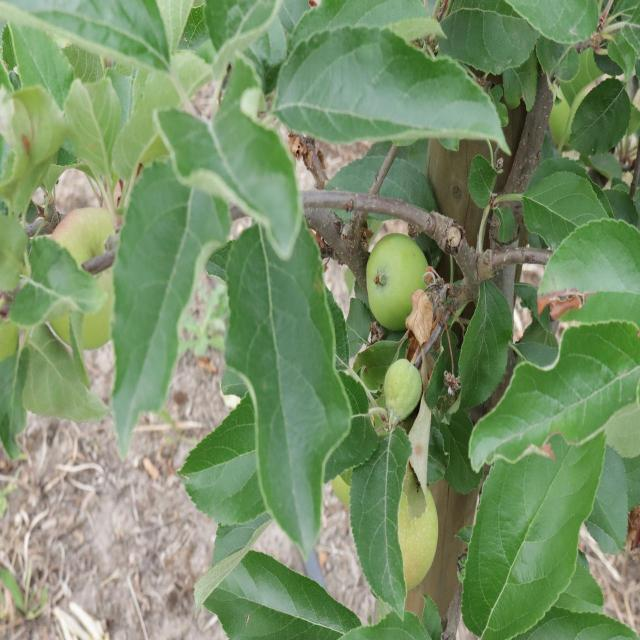-FireBlight-: (405, 285, 443, 357)
